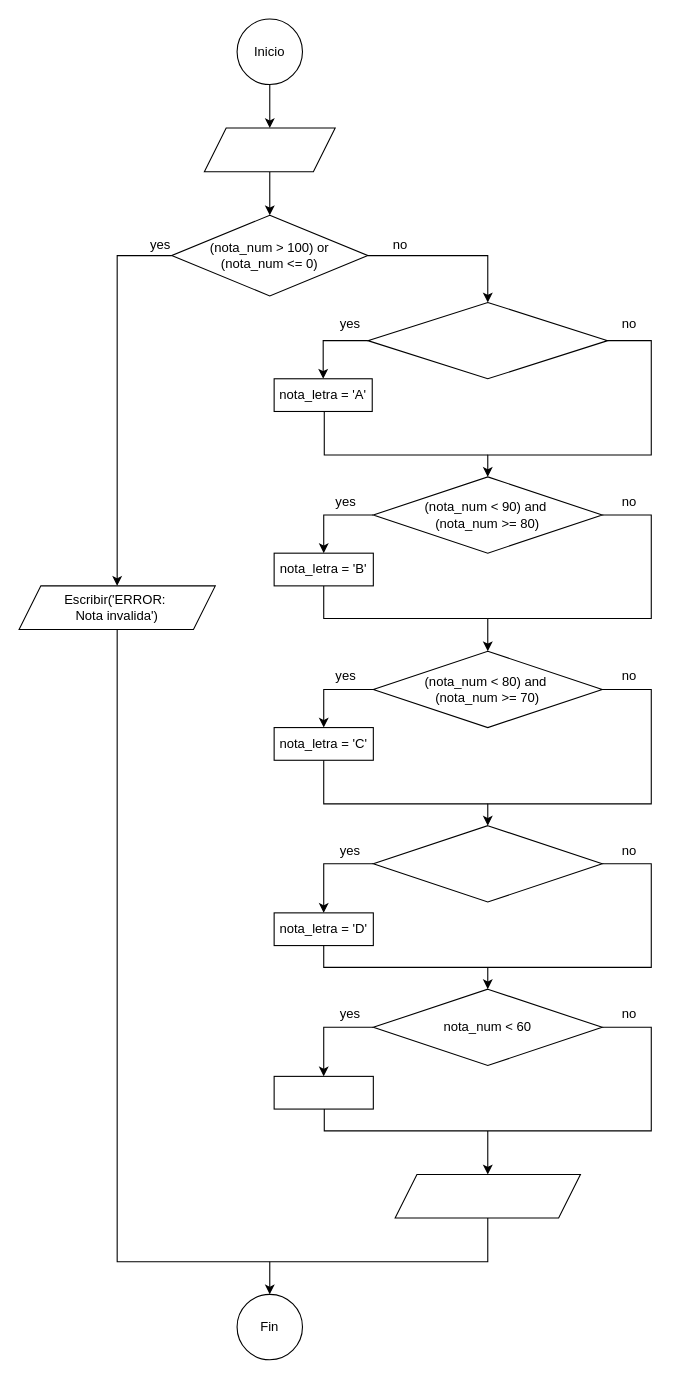
Some shapes in this 679 by 1379 pixel diagram are drawn without their labels. Here are the shapes that lost their labels. From the top down, the centre of each, then its label:
At (269,149): "Leer(nota_num)".
At (487,340): "(nota_num >= 90)".
At (487,863): "(nota_num < 70) and (nota_num >= 60)".
At (323,1092): "nota_letra = 'E'".
At (487,1195): "Escribir( nota_letra)".
